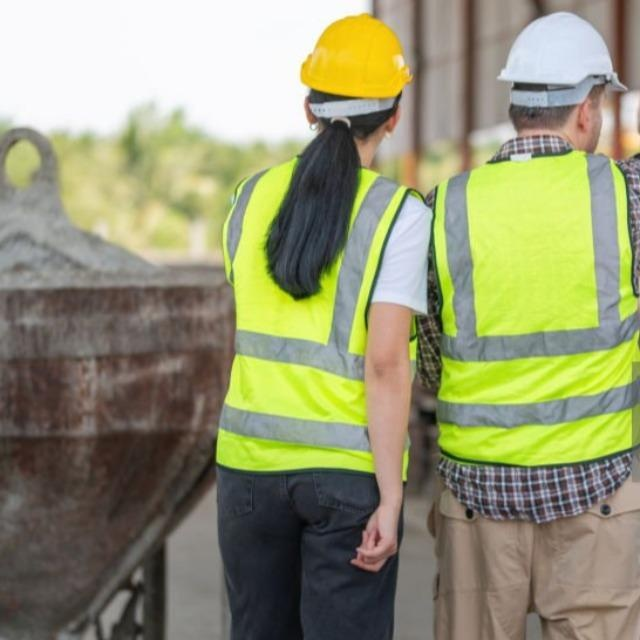Con_Casco: (500, 11, 628, 155), (301, 13, 414, 144)
Con_Chaleco: (431, 158, 640, 465), (222, 163, 418, 485)
